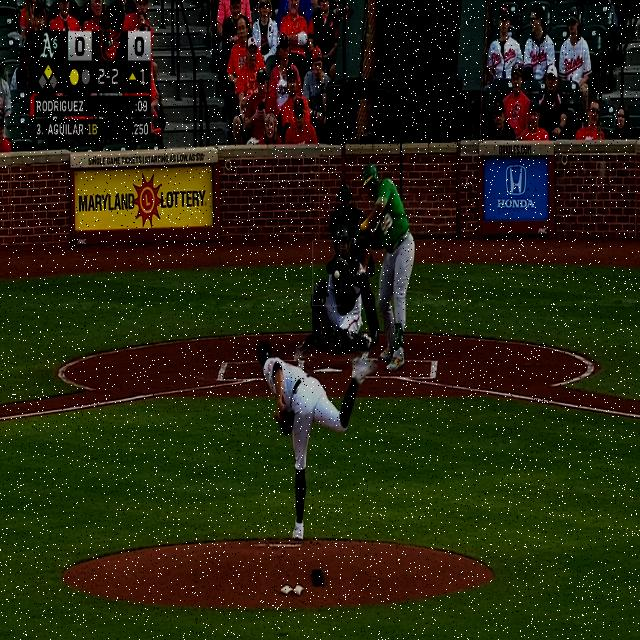baseball: (334, 270, 340, 280)
